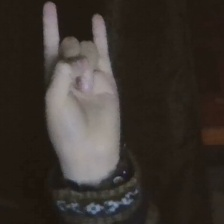U: (33, 1, 133, 158)
